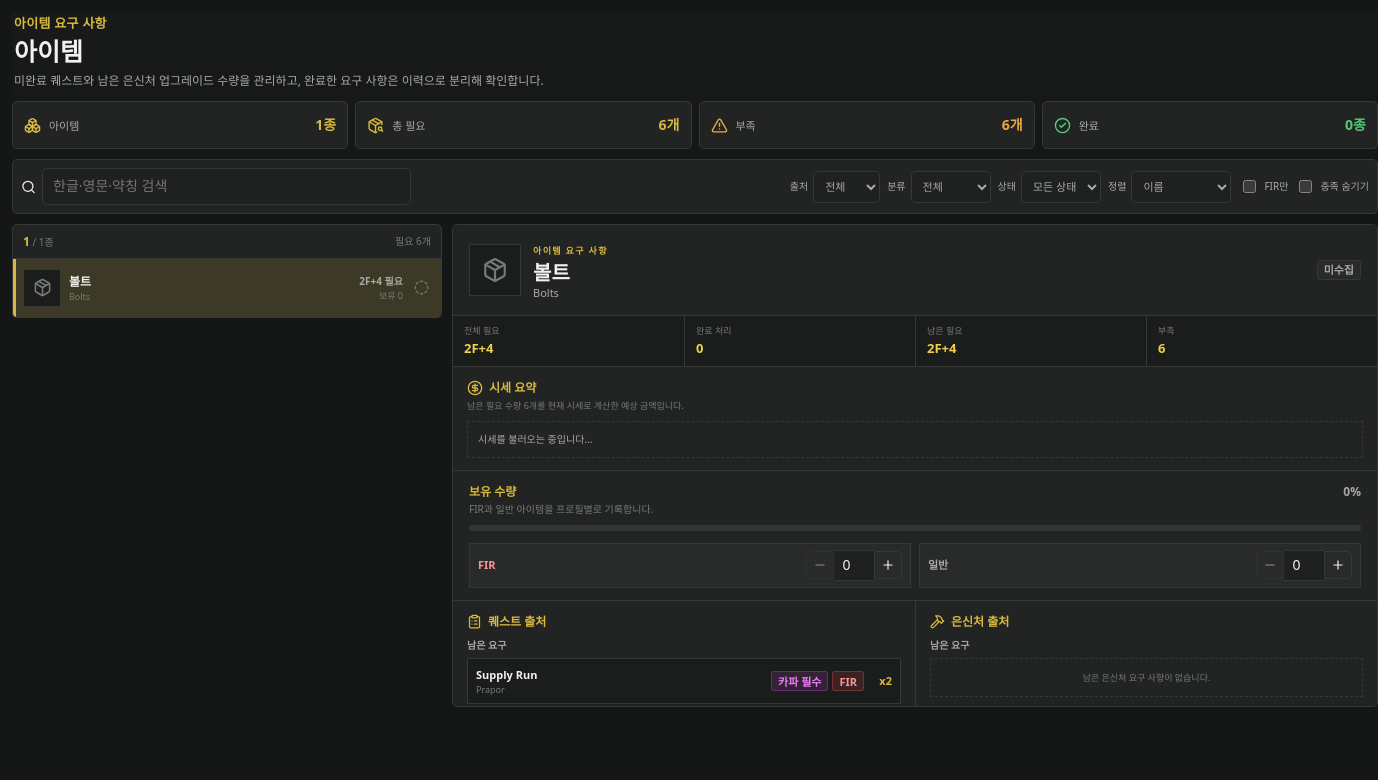
ItemsPage › shows aggregated sources and edits FIR inventory
Expected: the text "볼트" is shown, [69,273,91,290]
Expected: the element "시세 요약" is shown, [453,367,1377,471]
Click the button named "볼트 FIR 보유량 증가" at (888, 565), box [874,551,902,579]
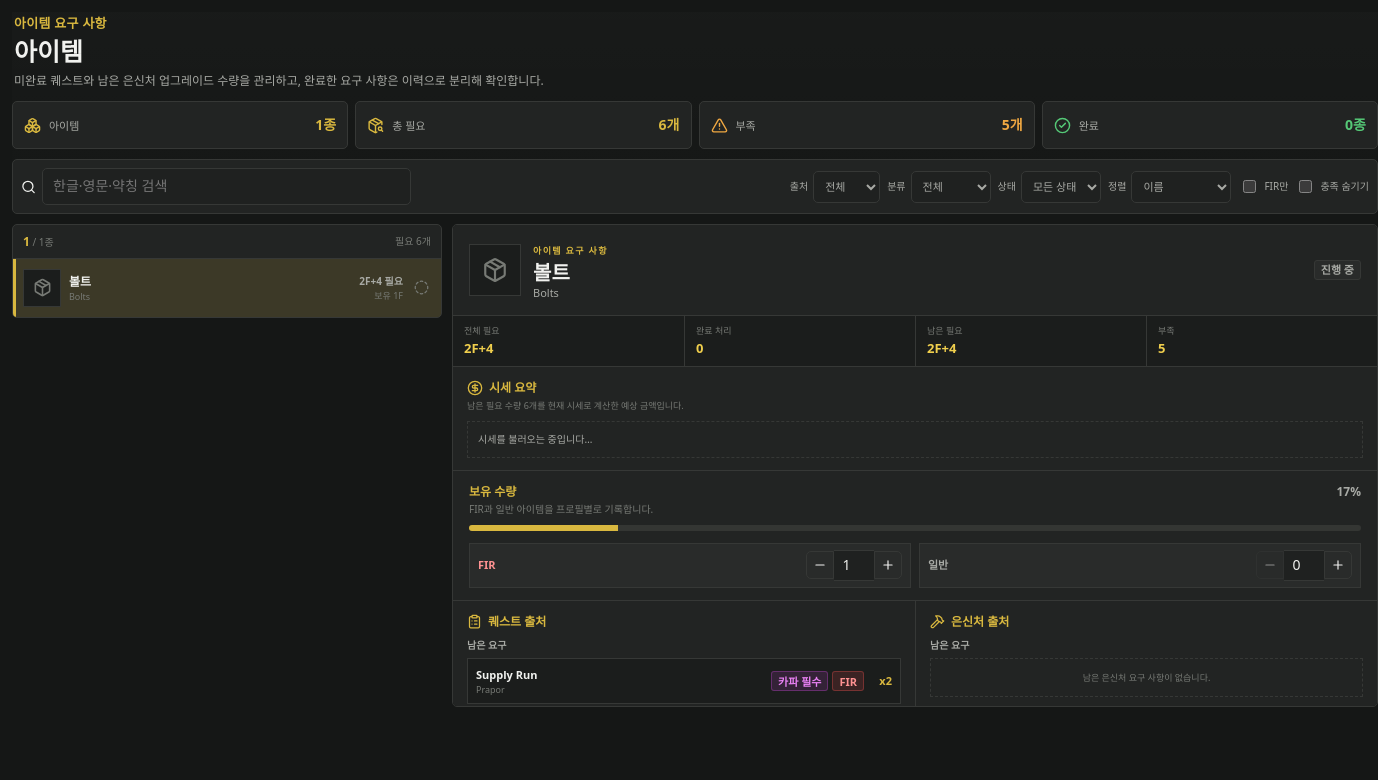
Click the button named "볼트 FIR 보유량 증가" at (888, 565), box [874,551,902,579]
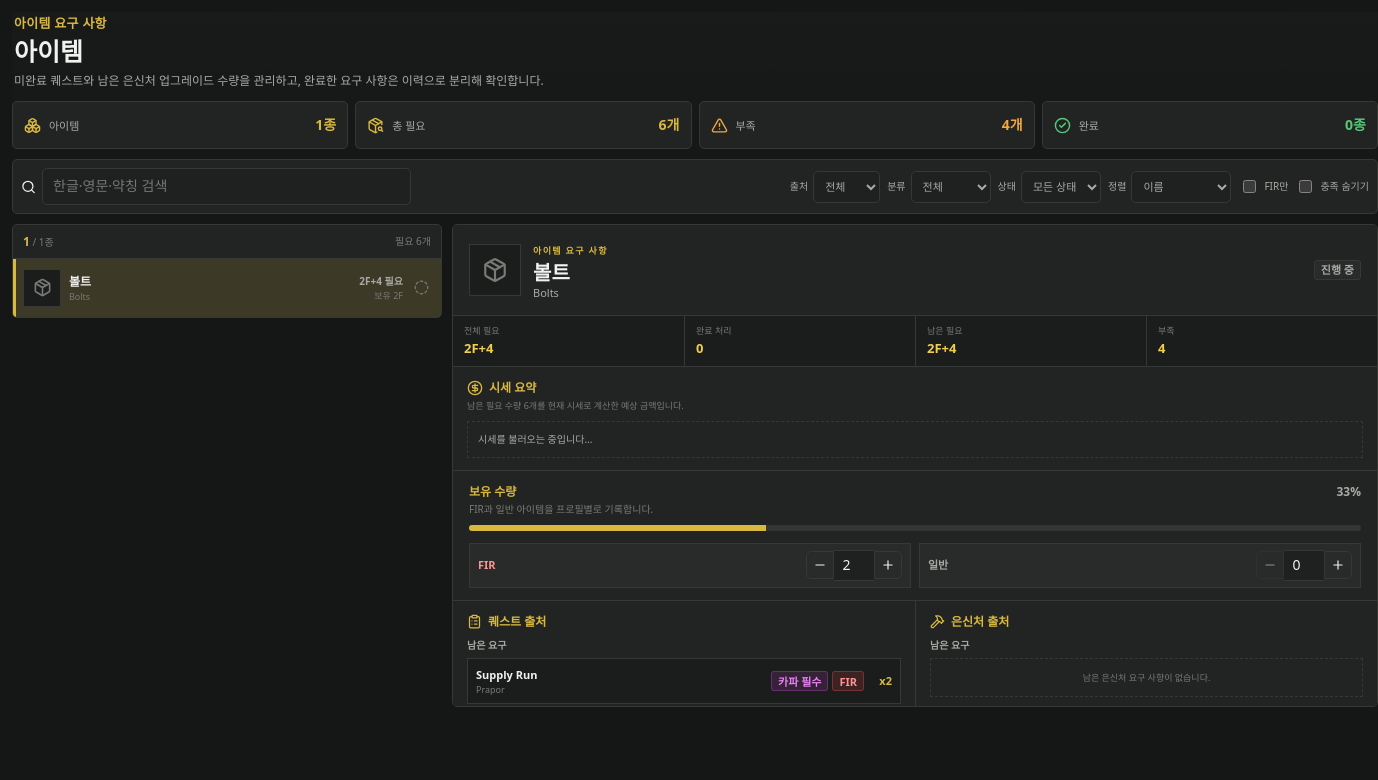
Click the button named "볼트 일반 보유량 증가" at (1338, 565), box [1324,551,1352,579]
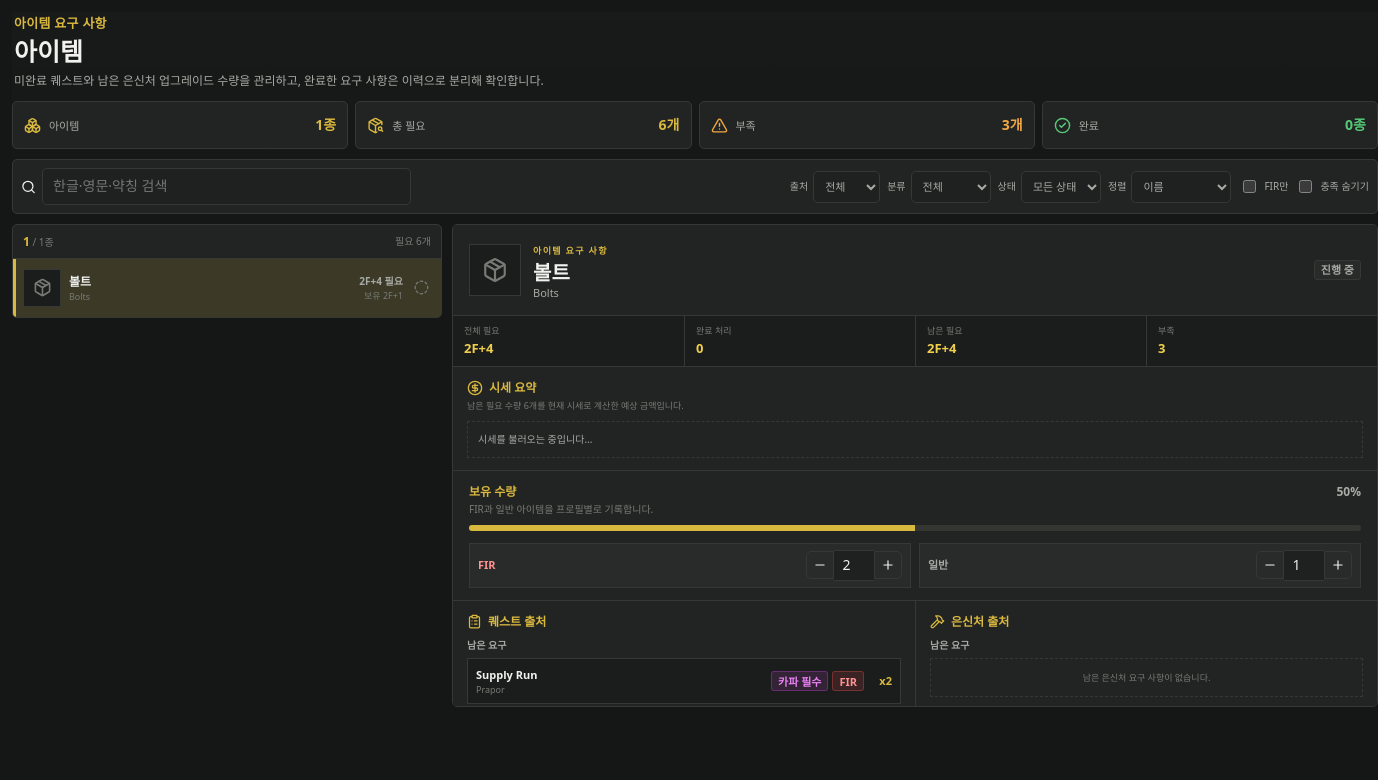
Click the button named "볼트 일반 보유량 증가" at (1338, 565), box [1324,551,1352,579]
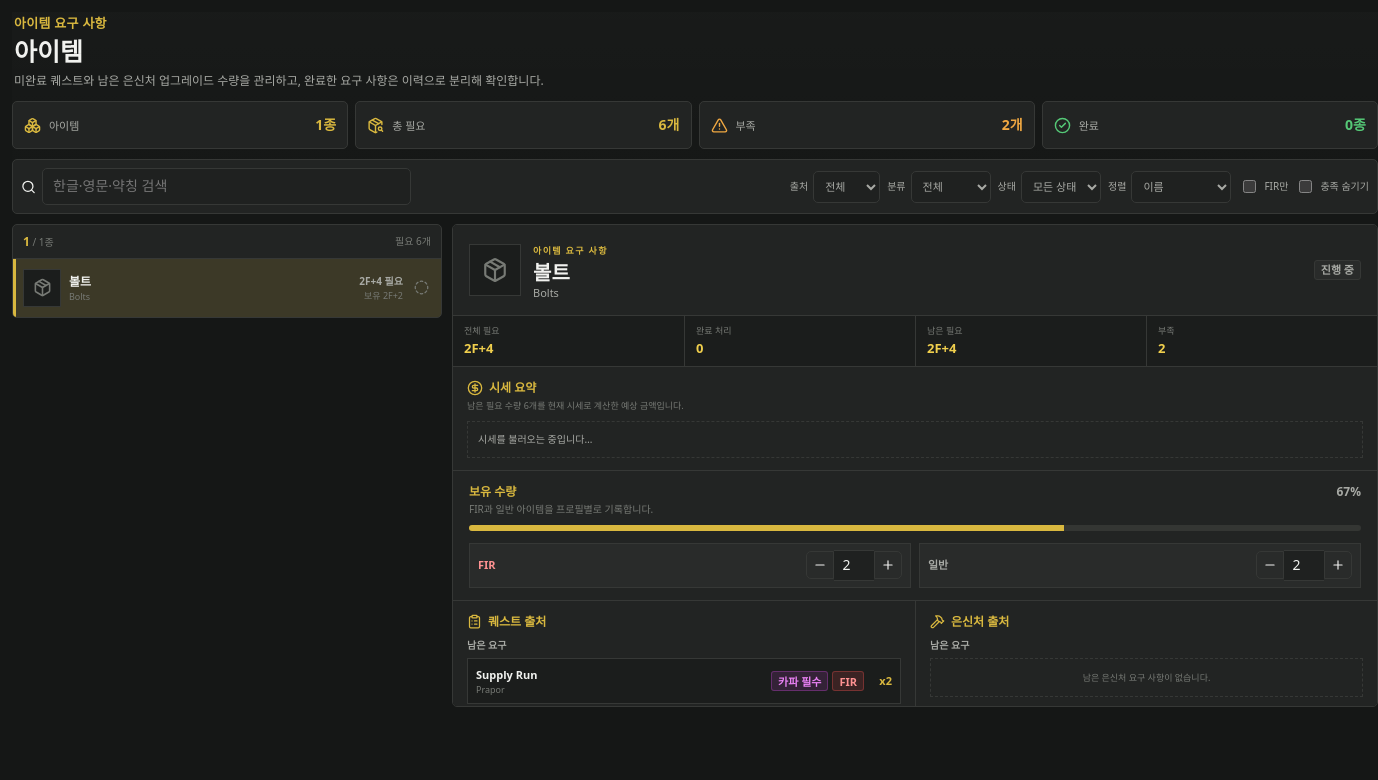
Click the button named "볼트 일반 보유량 증가" at (1338, 565), box [1324,551,1352,579]
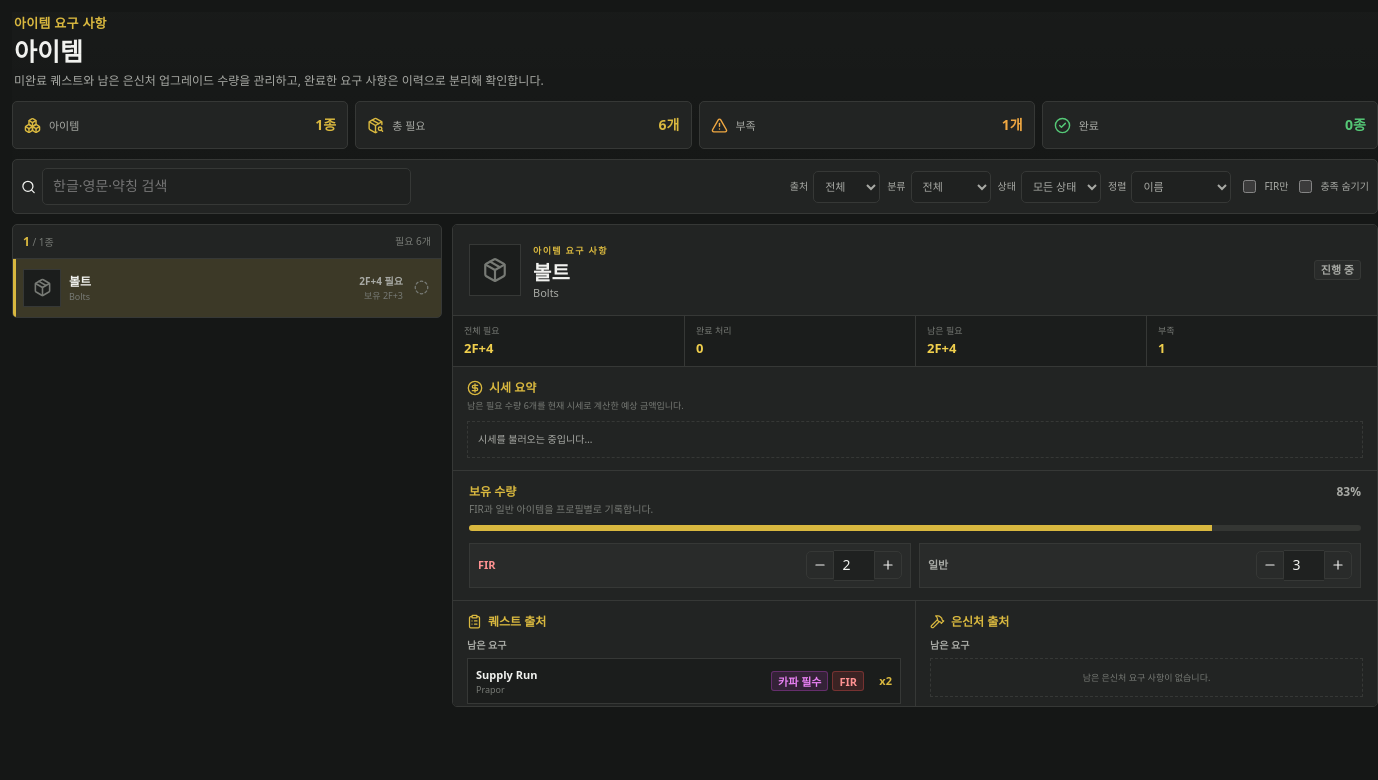
Click the button named "볼트 일반 보유량 증가" at (1338, 565), box [1324,551,1352,579]
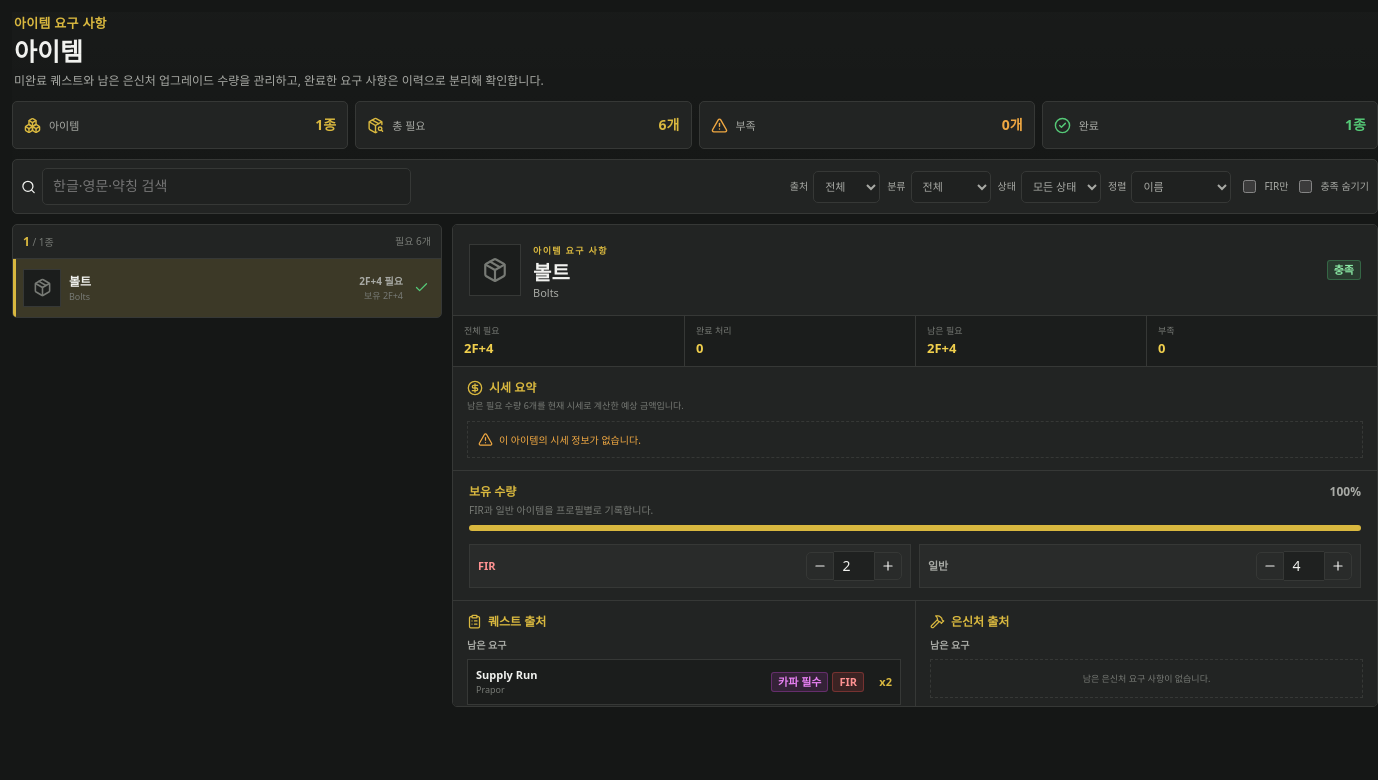
Now the text "보유 2F+4" is shown, box [364,288,403,302]
Now the text "충족" is shown, box [1327,260,1361,280]
